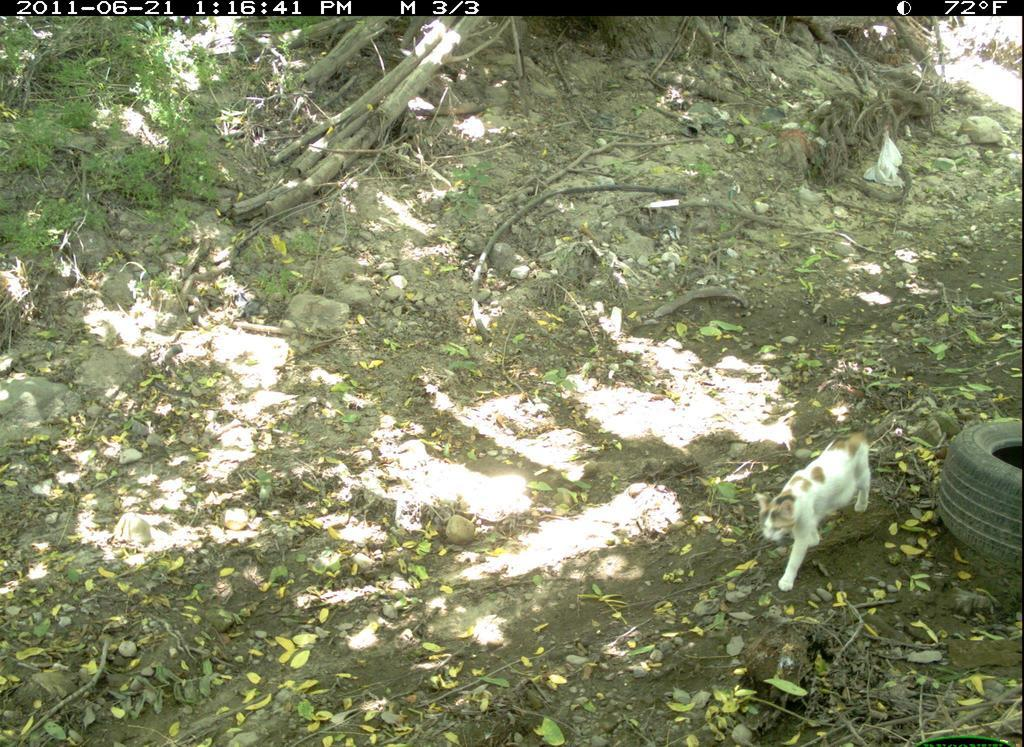cat: (751, 420, 877, 598)
